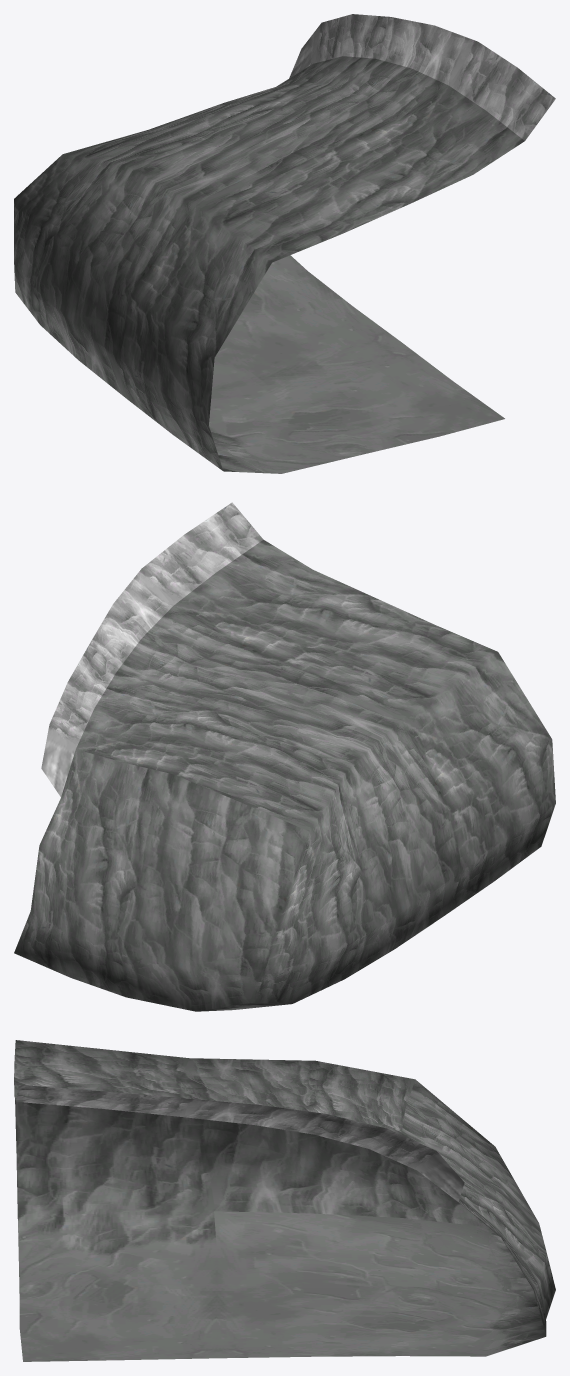
File: SWORDLIGHT20_PS-AREA03_24.fbx
The picture shows the model from 3 angles, top to bottom: view 1: azimuth 30°, elevation 25°; view 2: azimuth 150°, elevation 25°; view 3: azimuth 270°, elevation 25°; orthographic projection. The views are drawn at different scales.
Visible parts, largest first — view 1: SWORDLIGHT20_PS-AREA03_24; view 2: SWORDLIGHT20_PS-AREA03_24; view 3: SWORDLIGHT20_PS-AREA03_24.
Part boxes in pixels (x1,y1,x2,y2): SWORDLIGHT20_PS-AREA03_24: [14, 14, 555, 473]; SWORDLIGHT20_PS-AREA03_24: [14, 502, 555, 1011]; SWORDLIGHT20_PS-AREA03_24: [14, 1040, 555, 1361].
Size of the model in its own units: 84933 by 70238 by 114999.
Materials: 5 (5 with a texture image).
